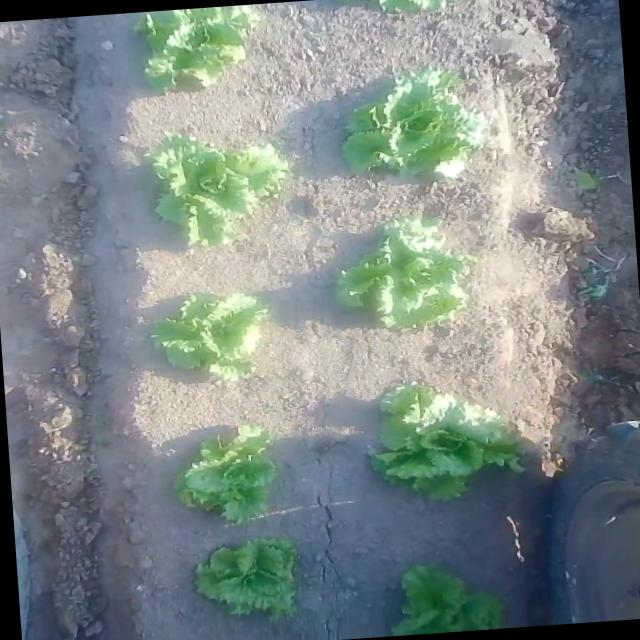Lettuce-Ready-to-Harvest: (320, 74, 480, 192), (355, 396, 526, 502), (154, 128, 270, 245), (188, 540, 310, 632)
